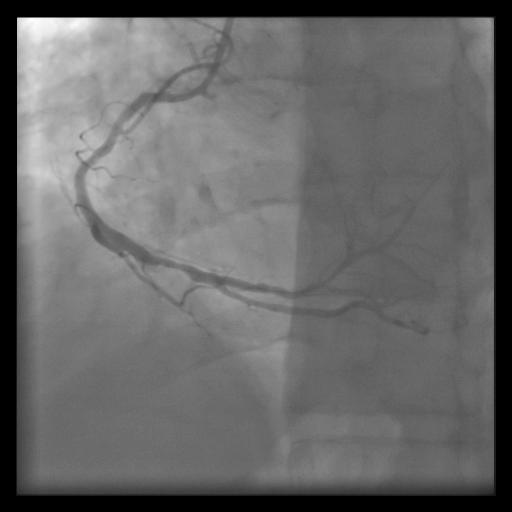Stenosis: (150, 248, 195, 281)
